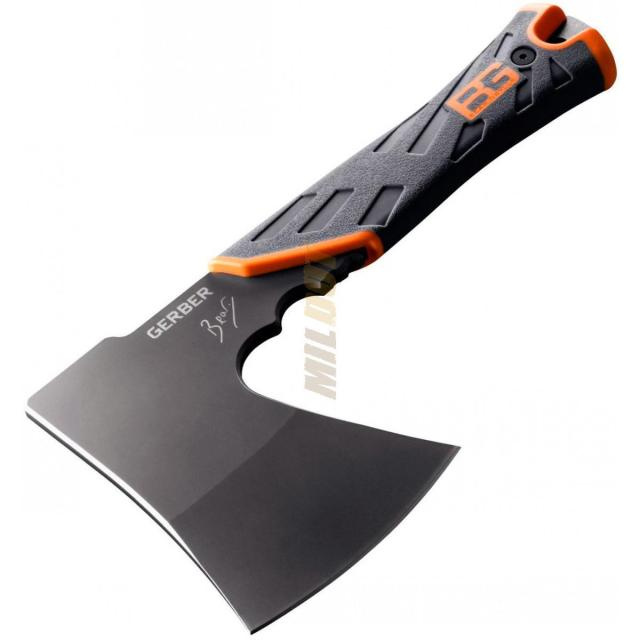Kapak: (44, 28, 564, 603)
